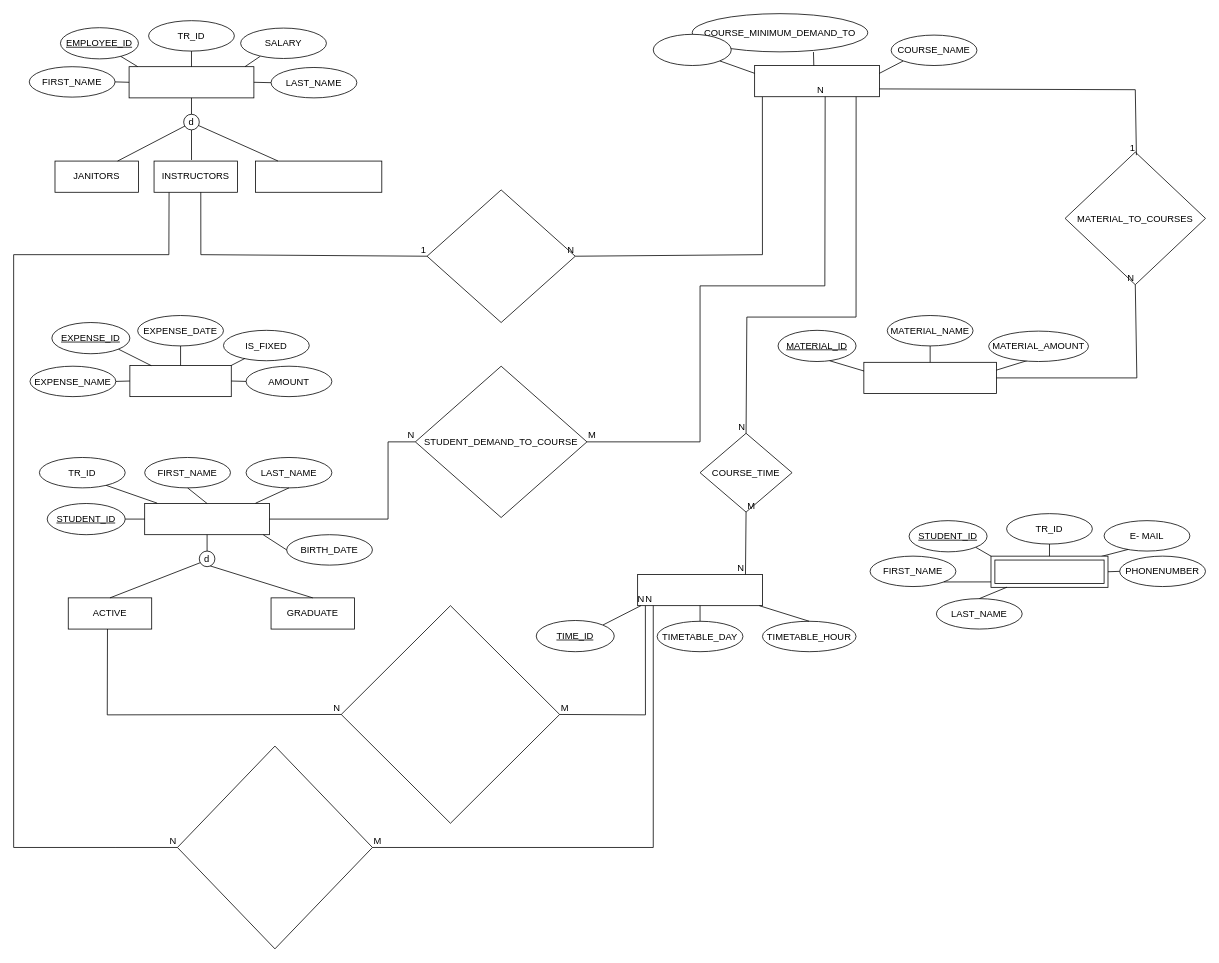
This 1219x963 diagram has some shape labels left out. Each missing label, with the box of its shape:
ACTIVE_STUDENT_TO_AVAILABLE_HOURS: (340, 605, 560, 823)
ADMINISTRATIVE_STAFFS: (255, 160, 382, 192)
COURSE_ID: (652, 34, 731, 66)
COURSES: (754, 65, 879, 97)
EMPLOYEES: (128, 66, 254, 98)
EXPENSES: (129, 365, 231, 397)
INSTRUCTOR_TO_AVAILABLE_HOURS: (177, 745, 372, 949)
INSTRUCTOR_TO_COURSES: (426, 189, 575, 323)
MATERIALS: (863, 362, 996, 394)
PARENTS: (990, 555, 1108, 587)
STUDENTS: (144, 503, 269, 535)
TIMETABLE: (637, 574, 762, 606)
